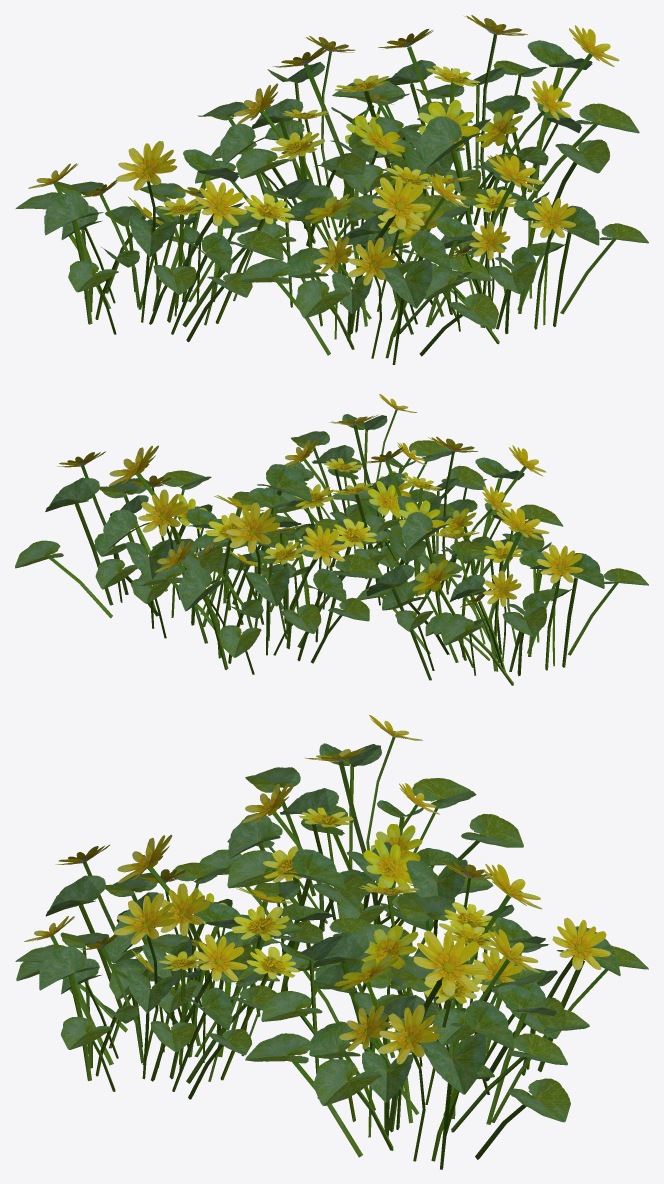
File: YellowFlower.fbx
3 views of the same model, one above another, from view 1: azimuth 30°, elevation 25°; view 2: azimuth 150°, elevation 25°; view 3: azimuth 270°, elevation 25° (orthographic). The views are drawn at different scales.
Parts seen in each view (by area): view 1: yellow_flowers_02_2_LOD0; view 2: yellow_flowers_02_2_LOD0; view 3: yellow_flowers_02_2_LOD0.
Boxes of the visible parts, <box> form: yellow_flowers_02_2_LOD0: <box>15,15,648,364</box>; yellow_flowers_02_2_LOD0: <box>15,394,648,685</box>; yellow_flowers_02_2_LOD0: <box>15,715,648,1169</box>.
Size of what is drawn, in the model's own units: 217 by 65.57 by 175.
Materials: 1 (1 with a texture image).
